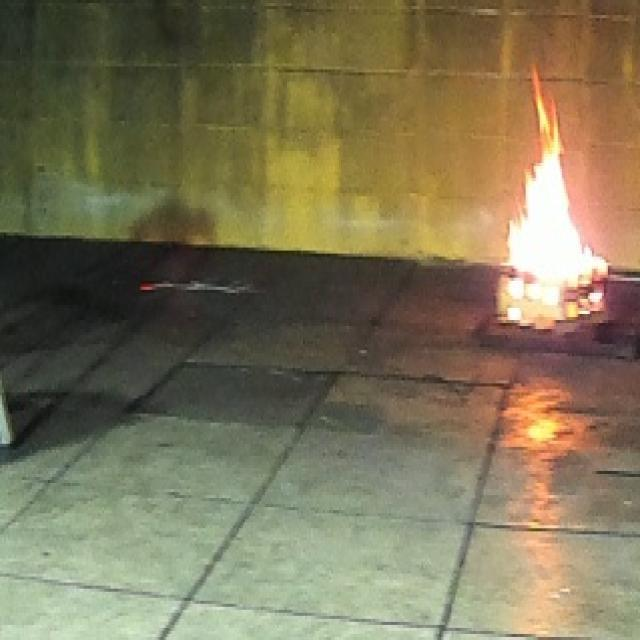Fire: (498, 64, 608, 329)
